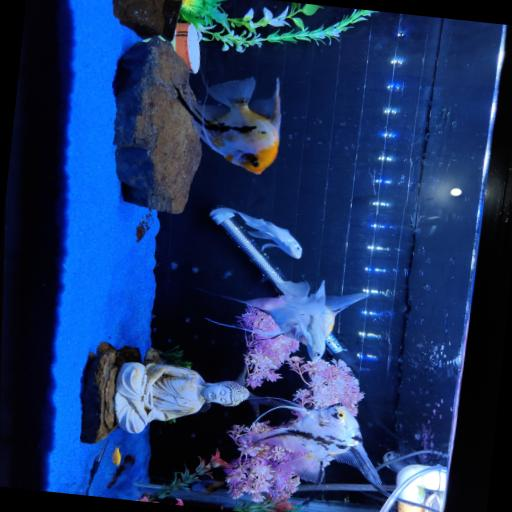Fish: (221, 281, 366, 362), (247, 401, 380, 485), (189, 77, 280, 174), (209, 207, 301, 258), (190, 479, 223, 493), (111, 447, 120, 466)
